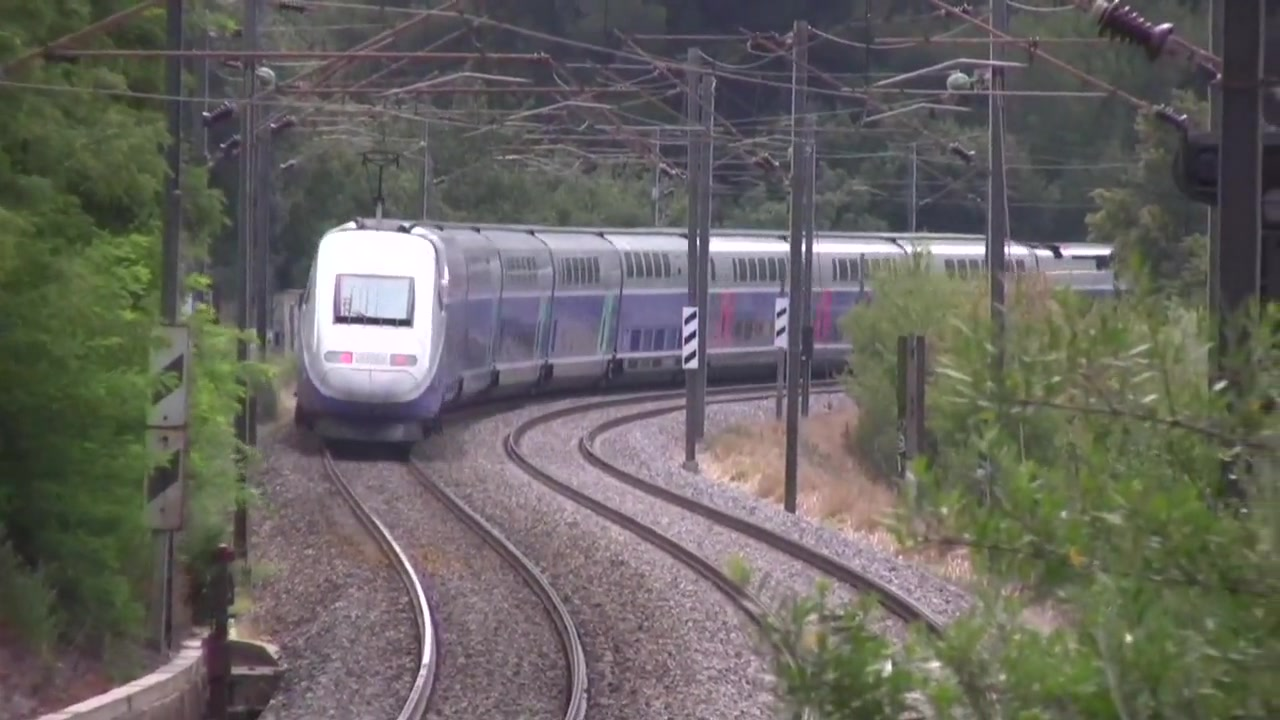train: (293, 209, 1122, 460)
